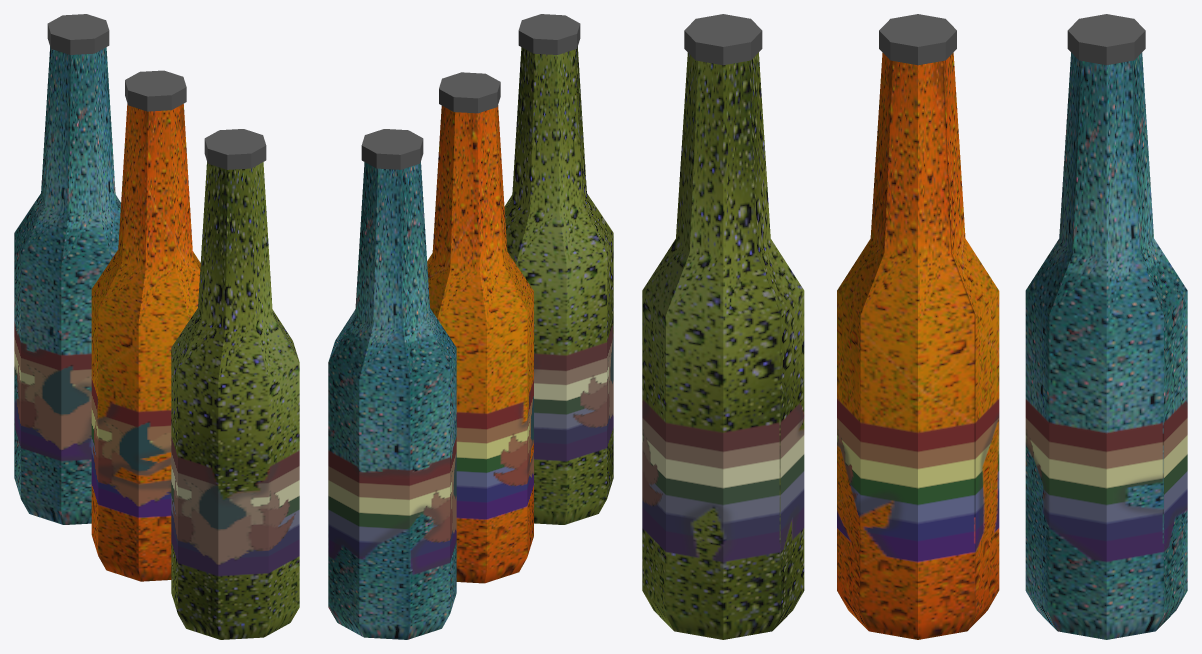
Rendered from garrafas 1.fbx.
3 views of the same model, side by side, from view 1: azimuth 30°, elevation 25°; view 2: azimuth 150°, elevation 25°; view 3: azimuth 270°, elevation 25° (orthographic). The views are drawn at different scales.
Visible parts, largest first — view 1: bottle.002, bottle, bottle.001; view 2: bottle.001, bottle.002, bottle; view 3: bottle.001, bottle.002, bottle.
Boxes of the visible parts, bbox=[...] form: bottle.002: bbox=[171, 129, 299, 639]; bottle: bbox=[91, 70, 200, 581]; bottle.001: bbox=[14, 14, 120, 524]; bottle.001: bbox=[328, 129, 456, 639]; bottle.002: bbox=[504, 14, 613, 524]; bottle: bbox=[427, 72, 533, 583]; bottle.001: bbox=[1025, 14, 1187, 639]; bottle.002: bbox=[642, 14, 804, 639]; bottle: bbox=[837, 14, 999, 639].
Bounding box in the file's own units: 57.87 × 228 × 195.
Materials: 4 (3 with a texture image).
